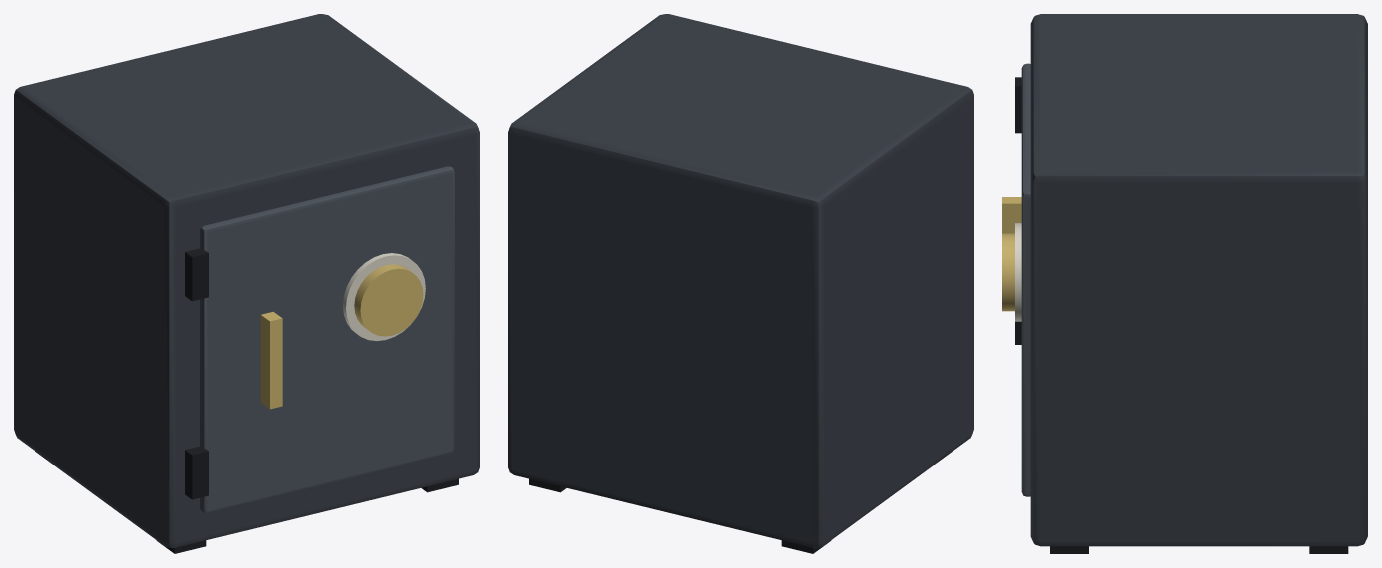
File: safe.glb
The picture shows the model from 3 angles, left to right: view 1: azimuth 30°, elevation 25°; view 2: azimuth 150°, elevation 25°; view 3: azimuth 270°, elevation 25°; orthographic projection. The views are drawn at different scales.
Visible parts, largest first — view 1: part-safe, part-safe-door, part-brass, part-foot, part-dial-ring; view 2: part-safe; view 3: part-safe, part-safe-door, part-brass, part-foot, part-dial-ring.
Part boxes in pixels (x1,y1,x2,y2): part-safe: (14, 14, 479, 547); part-safe-door: (200, 166, 454, 512); part-brass: (260, 264, 423, 409); part-foot: (35, 248, 458, 553); part-dial-ring: (343, 253, 425, 340); part-safe: (508, 14, 973, 547); part-safe: (1030, 14, 1367, 546); part-safe-door: (1021, 63, 1030, 496); part-brass: (1002, 197, 1021, 311); part-foot: (1015, 77, 1348, 553); part-dial-ring: (1015, 223, 1021, 321).
Size of the model in its own units: 30 by 33 by 28.2.
